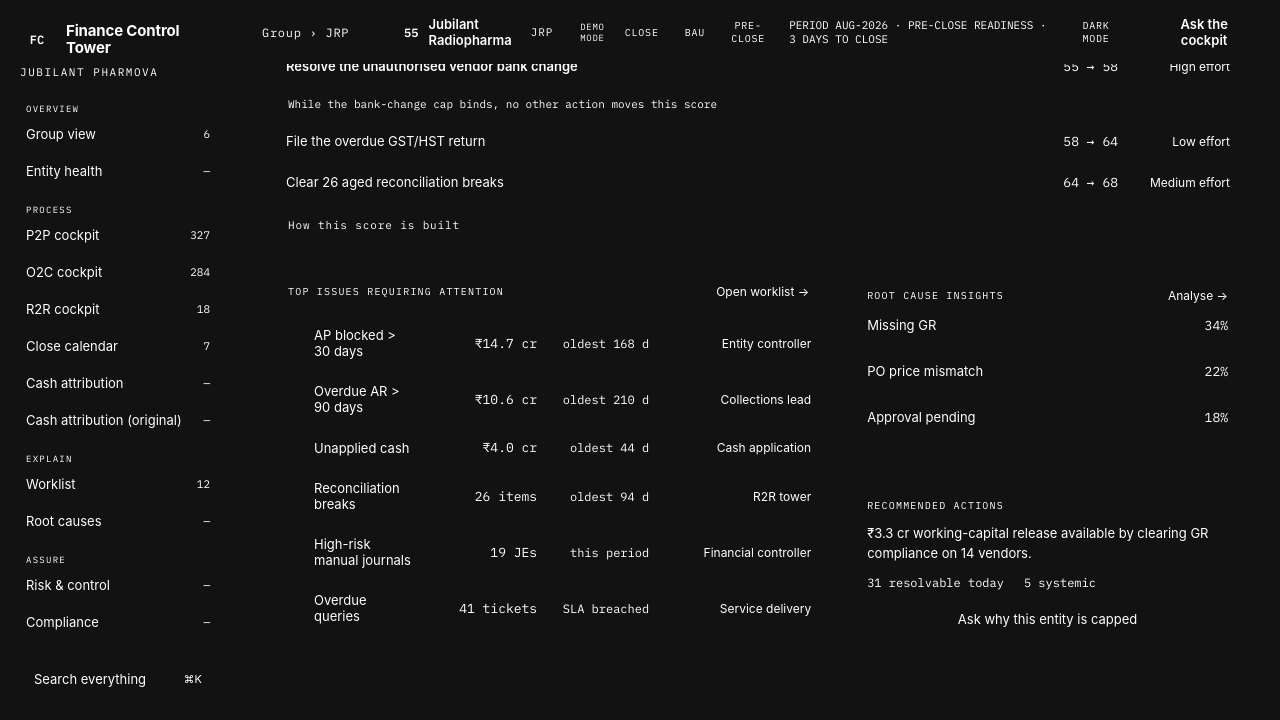
AI drawer (spec/07) › asks why a capped entity is capped and cites the score history (spec/11)
(page scrolled)
Click the button "Ask why this entity is capped". click: (1048, 619)
box: top-left (867, 602), bottom-right (1228, 636)
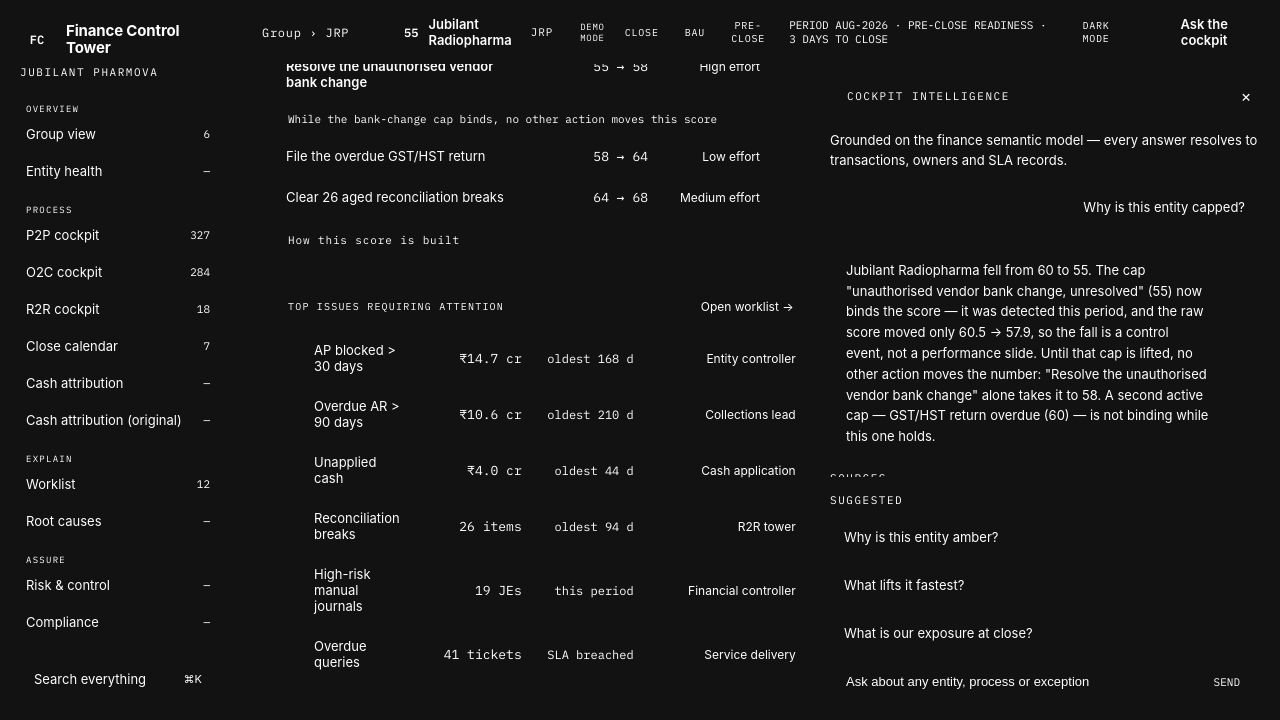
Expected: the text "Why is this entity capped?" is shown, top-left (1083, 199), bottom-right (1245, 215)
Expected: the text "no other action moves the number" is shown, top-left (846, 262), bottom-right (1208, 444)
